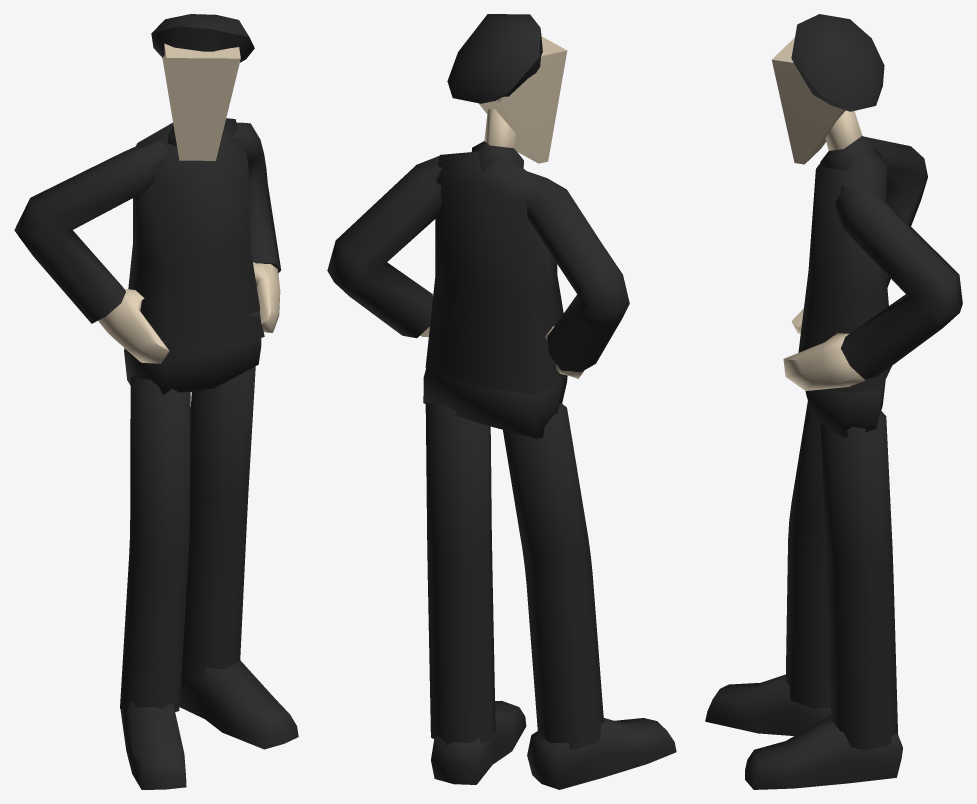
The model's file is mesh_CampPrisoner_d.fbx.
3 views of the same model, side by side, from view 1: azimuth 30°, elevation 25°; view 2: azimuth 150°, elevation 25°; view 3: azimuth 270°, elevation 25° (orthographic). The views are drawn at different scales.
Visible parts, largest first — view 1: PrisonerD; view 2: PrisonerD; view 3: PrisonerD.
Boxes of the visible parts, box(x1,y1,x2,y2) form: PrisonerD: box(14, 14, 298, 789); PrisonerD: box(327, 14, 676, 789); PrisonerD: box(705, 14, 962, 789).
Size of the model in its own units: 38.6 by 99.21 by 31.46.
